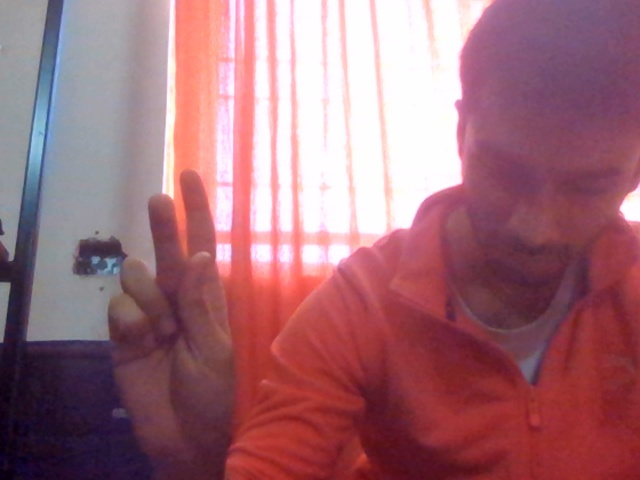K: (85, 166, 294, 480)
